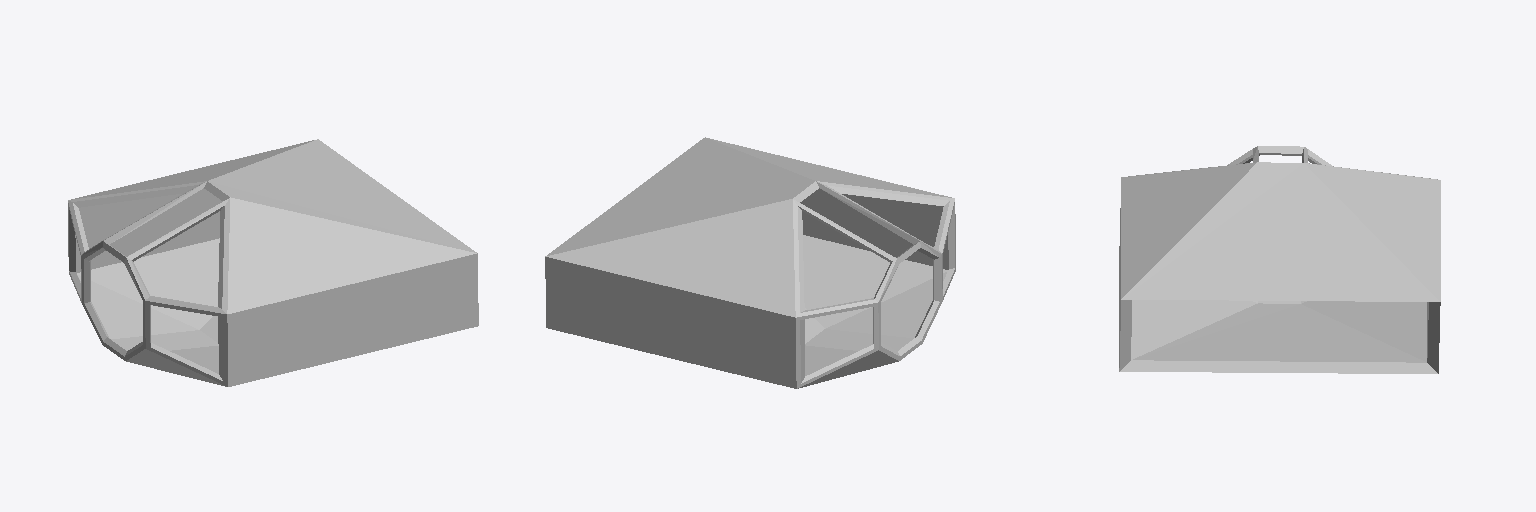
File: cockpit.obj
3 views of the same model, side by side, from view 1: azimuth 30°, elevation 25°; view 2: azimuth 150°, elevation 25°; view 3: azimuth 270°, elevation 25° (orthographic).
Parts seen in each view (by area): view 1: Circle; view 2: Circle; view 3: Circle.
Part boxes in pixels (left/top/right/bottom): Circle: left=68, top=139, right=478, bottom=386; Circle: left=545, top=137, right=955, bottom=388; Circle: left=1119, top=146, right=1440, bottom=373.
Size of the model in its own units: 11.55 by 5.87 by 11.28.